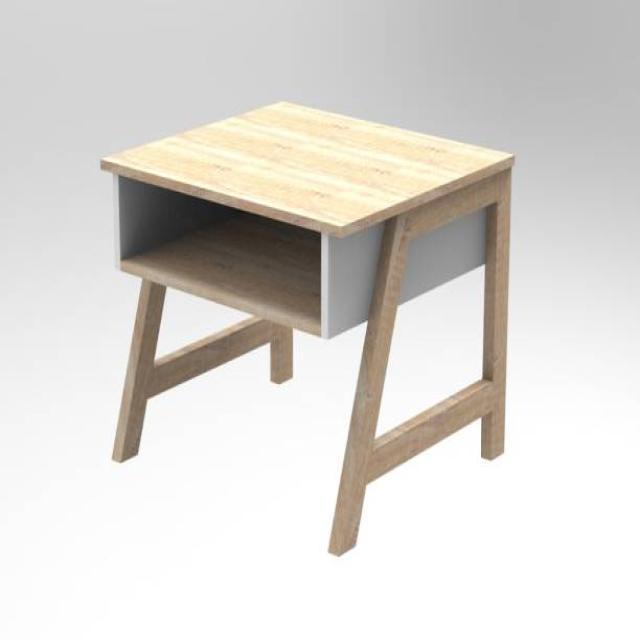table: (100, 98, 514, 556)
